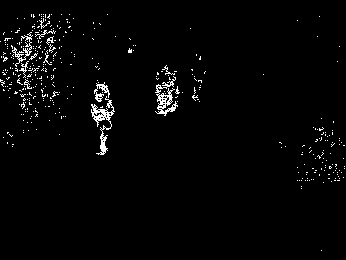person: (89, 80, 117, 156)
